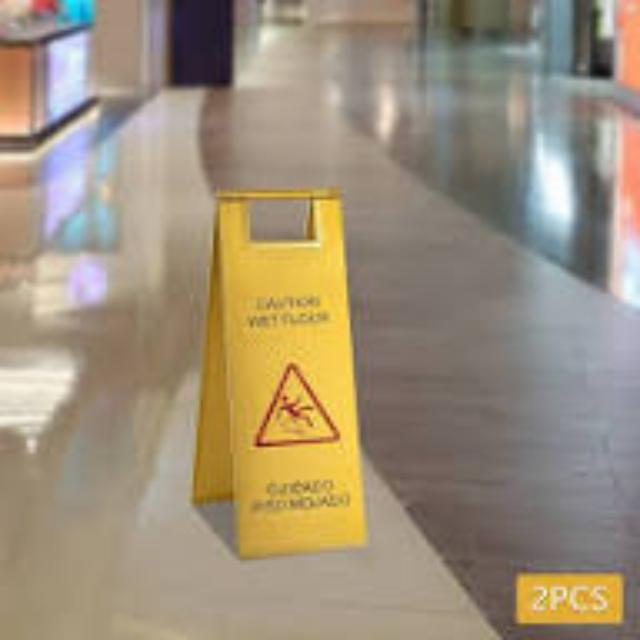tron truot: (190, 190, 363, 553)
